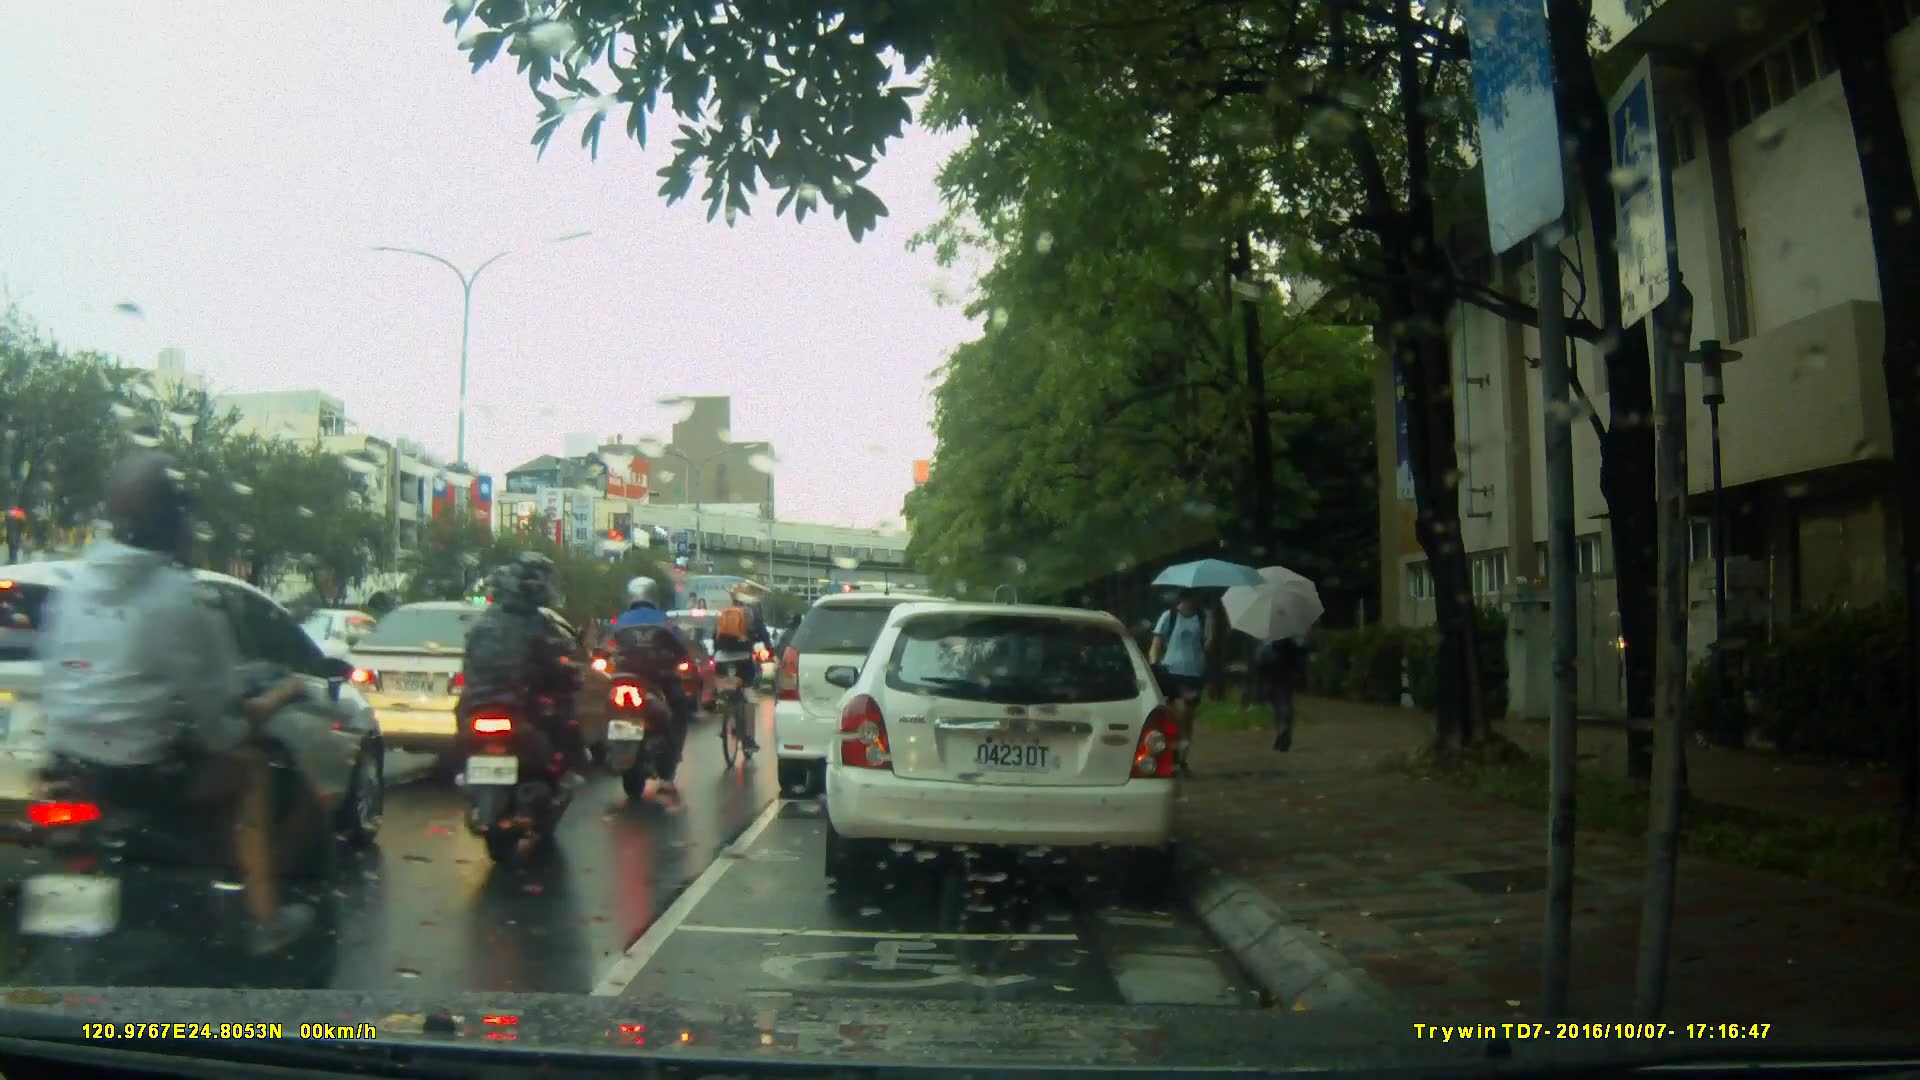pedestrian: (1156, 563, 1223, 795), (1263, 587, 1311, 753)
rider: (10, 462, 333, 1029), (463, 555, 589, 878), (608, 578, 709, 803), (720, 582, 783, 777)
vehicle: (1, 554, 392, 908), (835, 594, 1194, 898), (315, 594, 596, 790), (776, 590, 1026, 784), (587, 620, 717, 721), (670, 572, 790, 673)
